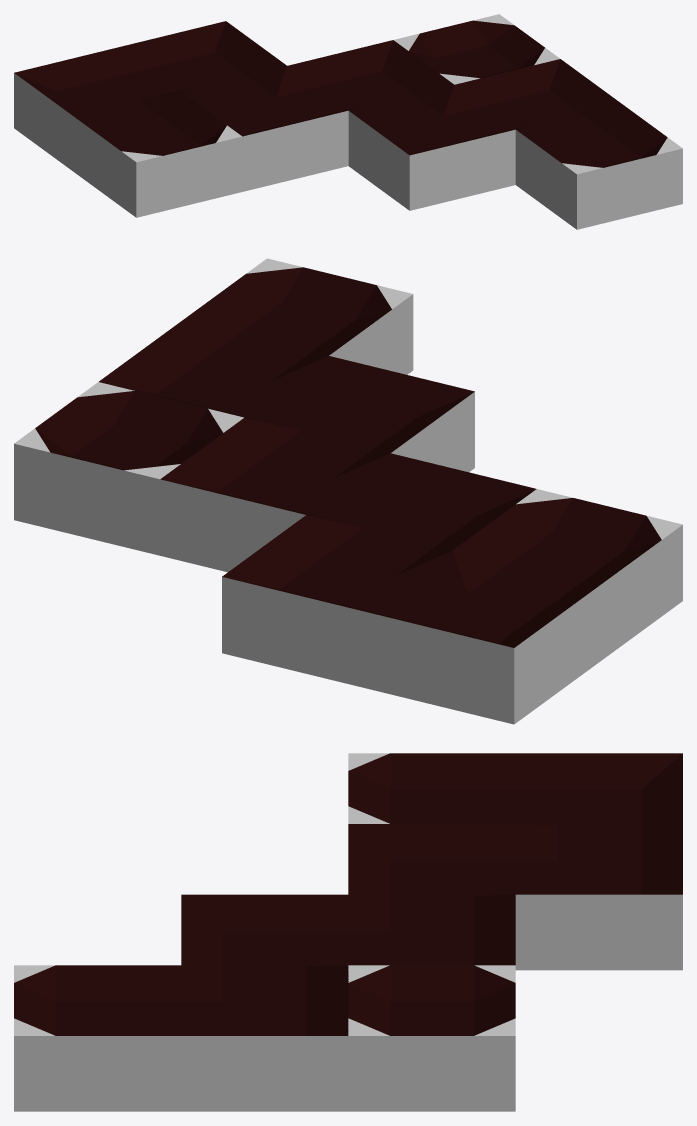
Rendered from 49s_path.obj.
3 views of the same model, one above another, from view 1: azimuth 30°, elevation 25°; view 2: azimuth 150°, elevation 25°; view 3: azimuth 270°, elevation 25° (orthographic). The views are drawn at different scales.
Parts seen in each view (by area): view 1: ending.0.3_ending.193, ending.3.1_ending.194, corner.2.2_corner.488, corner.1.3_corner.486, corner.0.4_corner.485, corner.1.4_corner.487, corner.3.2_corner.490, corner.2.3_corner.489, hole.3.3_Cube.098; view 2: corner.0.4_corner.485, hole.3.3_Cube.098, corner.1.4_corner.487, ending.0.3_ending.193, corner.2.3_corner.489, ending.3.1_ending.194, corner.2.2_corner.488, corner.1.3_corner.486, corner.3.2_corner.490; view 3: ending.3.1_ending.194, hole.3.3_Cube.098, corner.1.4_corner.487, corner.3.2_corner.490, corner.2.2_corner.488, corner.0.4_corner.485, corner.1.3_corner.486, ending.0.3_ending.193, corner.2.3_corner.489.
Part boxes in pixels (x1=…): ending.0.3_ending.193: x1=75, y1=92, x2=242, y2=217; ending.3.1_ending.194: x1=515, y1=104, x2=682, y2=229; corner.2.2_corner.488: x1=348, y1=85, x2=515, y2=210; corner.1.3_corner.486: x1=182, y1=66, x2=348, y2=191; corner.0.4_corner.485: x1=14, y1=47, x2=180, y2=172; corner.1.4_corner.487: x1=120, y1=21, x2=286, y2=98; corner.3.2_corner.490: x1=455, y1=59, x2=621, y2=136; corner.2.3_corner.489: x1=287, y1=40, x2=453, y2=117; hole.3.3_Cube.098: x1=394, y1=14, x2=559, y2=84; corner.0.4_corner.485: x1=368, y1=551, x2=598, y2=724; hole.3.3_Cube.098: x1=14, y1=382, x2=243, y2=555; corner.1.4_corner.487: x1=222, y1=515, x2=451, y2=688; ending.0.3_ending.193: x1=452, y1=489, x2=682, y2=662; corner.2.3_corner.489: x1=160, y1=417, x2=390, y2=572; ending.3.1_ending.194: x1=183, y1=258, x2=413, y2=374; corner.2.2_corner.488: x1=245, y1=356, x2=474, y2=472; corner.1.3_corner.486: x1=306, y1=453, x2=536, y2=560; corner.3.2_corner.490: x1=99, y1=320, x2=328, y2=421; ending.3.1_ending.194: x1=14, y1=965, x2=181, y2=1111; hole.3.3_Cube.098: x1=348, y1=965, x2=515, y2=1111; corner.1.4_corner.487: x1=515, y1=824, x2=682, y2=970; corner.3.2_corner.490: x1=181, y1=965, x2=348, y2=1111; corner.2.2_corner.488: x1=181, y1=894, x2=348, y2=984; corner.0.4_corner.485: x1=515, y1=753, x2=682, y2=842; corner.1.3_corner.486: x1=348, y1=824, x2=515, y2=913; ending.0.3_ending.193: x1=348, y1=753, x2=515, y2=823; corner.2.3_corner.489: x1=348, y1=895, x2=515, y2=965.
Bounding box in the file's own units: 8 × 1 × 8.
